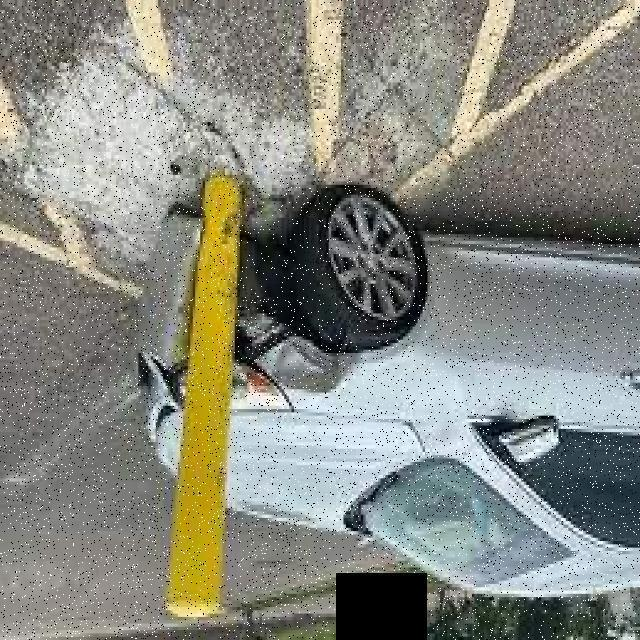vehicle: (84, 64, 640, 592)
